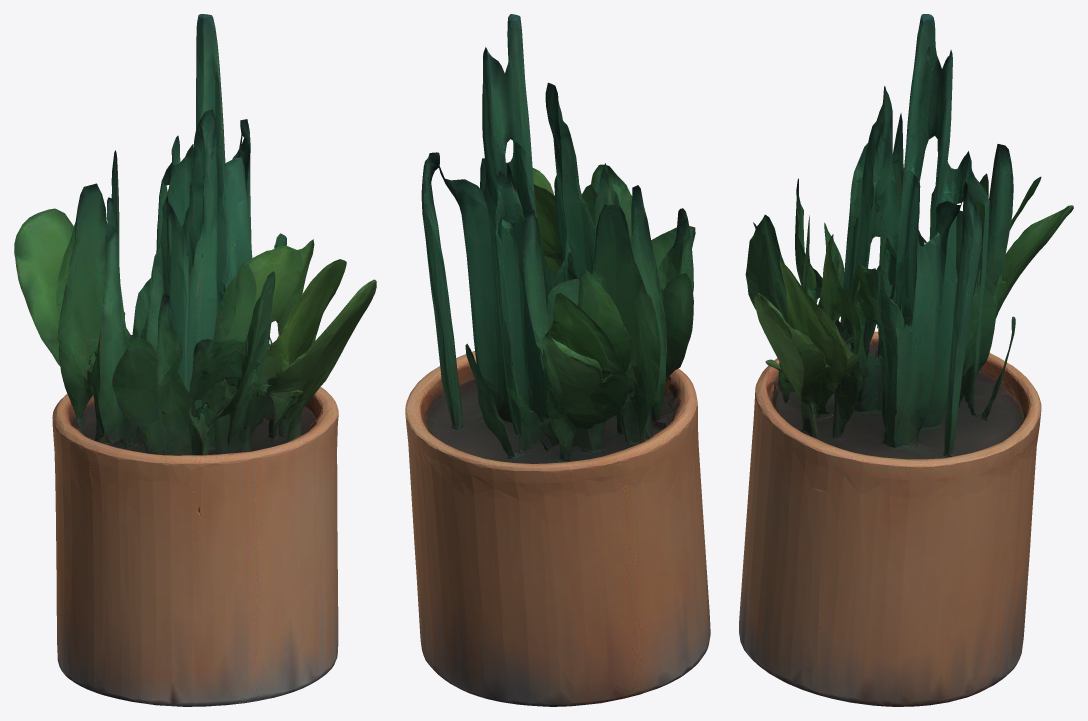
File: small_potted_plant_on_floor_000.glb
3 renders of one model, left to right at view 1: azimuth 30°, elevation 25°; view 2: azimuth 150°, elevation 25°; view 3: azimuth 270°, elevation 25°, orthographic. The views are drawn at different scales.
Visible parts, largest first — view 1: small_potted_plant_on_floor_000.obj; view 2: small_potted_plant_on_floor_000.obj; view 3: small_potted_plant_on_floor_000.obj.
Part boxes in pixels (bbox=[...]): small_potted_plant_on_floor_000.obj: bbox=[14, 14, 376, 706]; small_potted_plant_on_floor_000.obj: bbox=[405, 14, 710, 706]; small_potted_plant_on_floor_000.obj: bbox=[739, 14, 1073, 706].
Size of the model in its own units: 0.1241 by 0.2907 by 0.136.
1 material, 1 textured.
